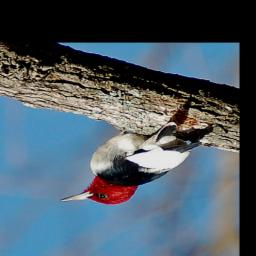Woodpecker: (56, 120, 203, 206)
